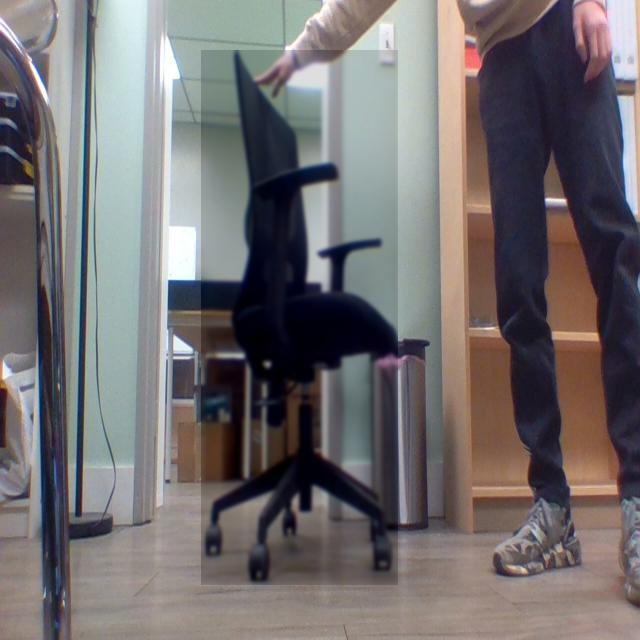chair: (201, 50, 399, 586)
